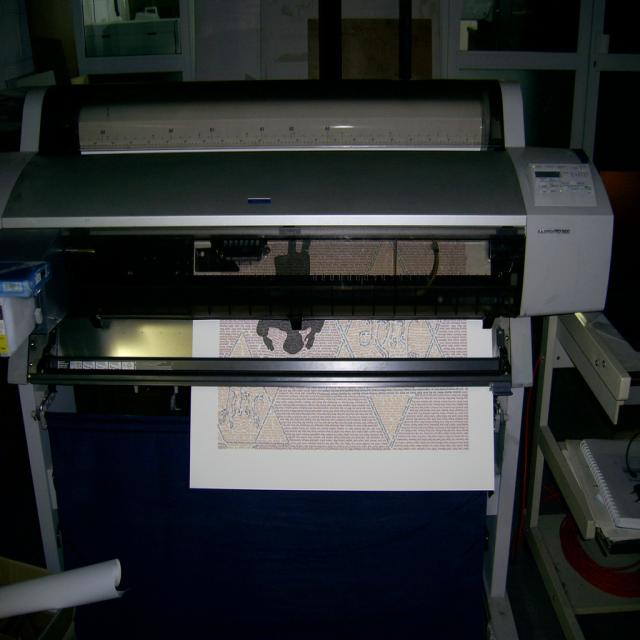printer: (11, 84, 625, 420)
